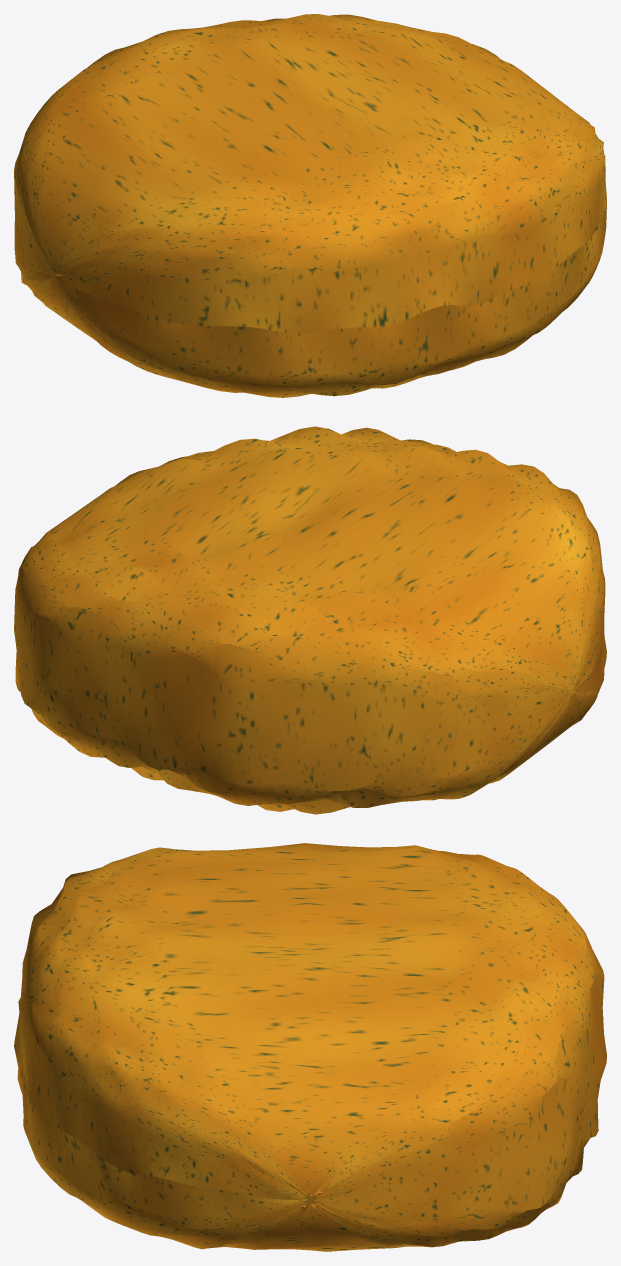
File: pumpkin.glb
The picture shows the model from 3 angles, top to bottom: view 1: azimuth 30°, elevation 25°; view 2: azimuth 150°, elevation 25°; view 3: azimuth 270°, elevation 25°; orthographic projection. The views are drawn at different scales.
Visible parts, largest first — view 1: pumpkin; view 2: pumpkin; view 3: pumpkin.
Boxes of the visible parts, left/top/right/bottom form: pumpkin: left=14, top=14, right=606, bottom=397; pumpkin: left=14, top=426, right=606, bottom=814; pumpkin: left=14, top=843, right=606, bottom=1251.
Size of the model in its own units: 1.66 by 0.6758 by 1.48.
Materials: 1 (1 with a texture image).
